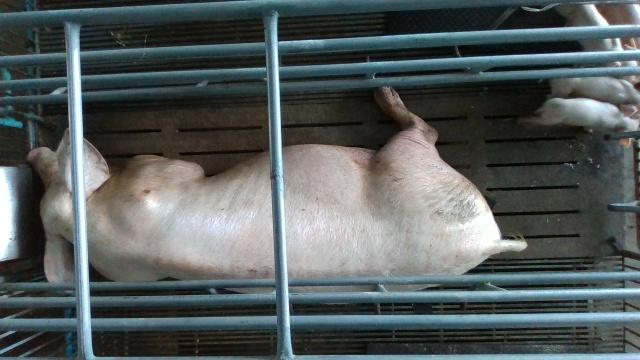piglet: (520, 98, 640, 147), (552, 3, 637, 68), (539, 77, 640, 105), (597, 1, 640, 50)
sow-sit: (27, 85, 526, 292)
